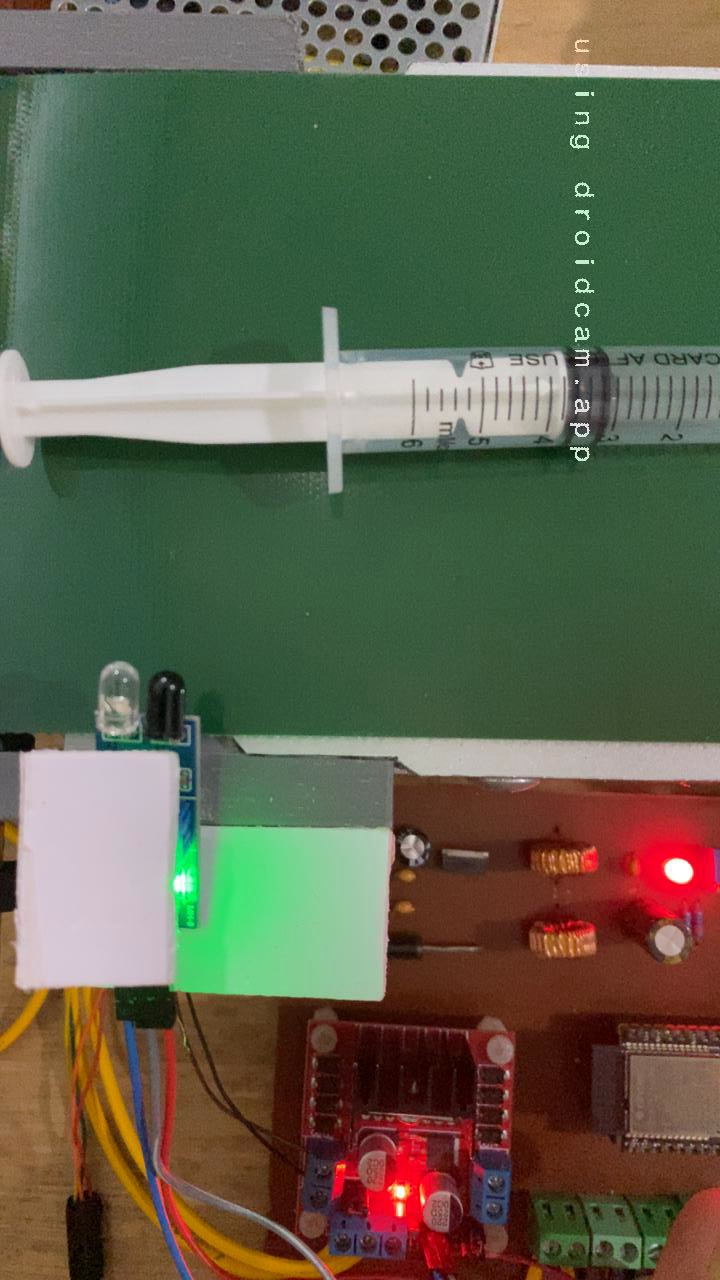syringe: (0, 300, 720, 501)
